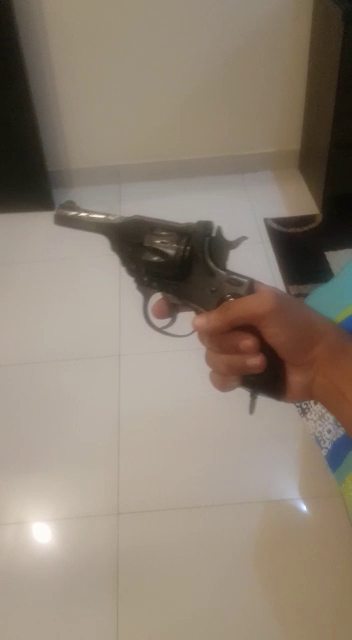handgun: (52, 189, 227, 355)
